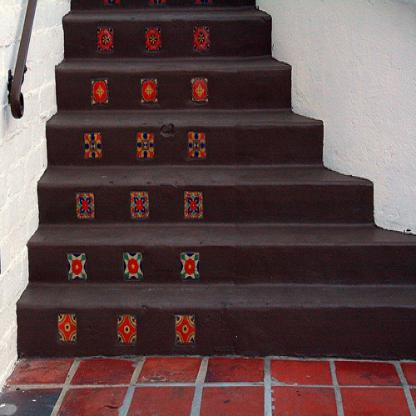stairs: (56, 100, 312, 388)
